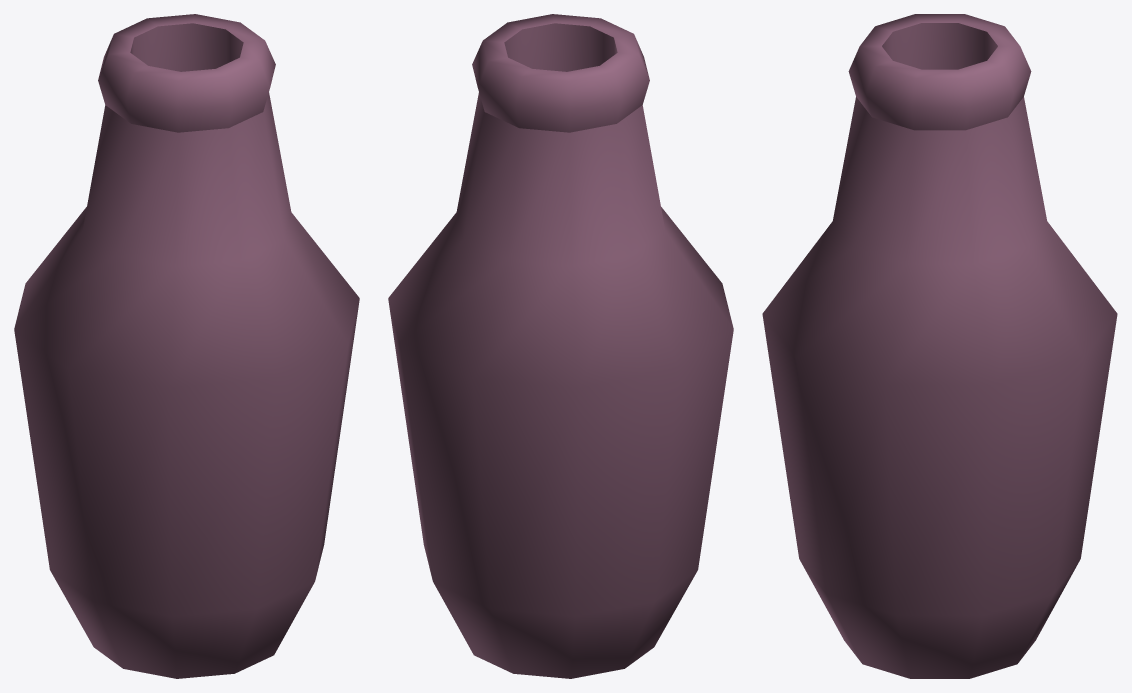
File: Bottle_G.fbx
The picture shows the model from 3 angles, left to right: view 1: azimuth 30°, elevation 25°; view 2: azimuth 150°, elevation 25°; view 3: azimuth 270°, elevation 25°; orthographic projection.
Parts seen in each view (by area): view 1: Bottle_G; view 2: Bottle_G; view 3: Bottle_G.
Boxes of the visible parts, x1,y1,x2,y2 form: Bottle_G: [14, 14, 359, 678]; Bottle_G: [388, 14, 733, 678]; Bottle_G: [762, 14, 1117, 678].
Size of the model in its own units: 19.84 by 38.52 by 20.87.
